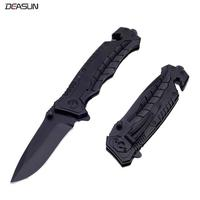knife: (8, 20, 136, 187)
